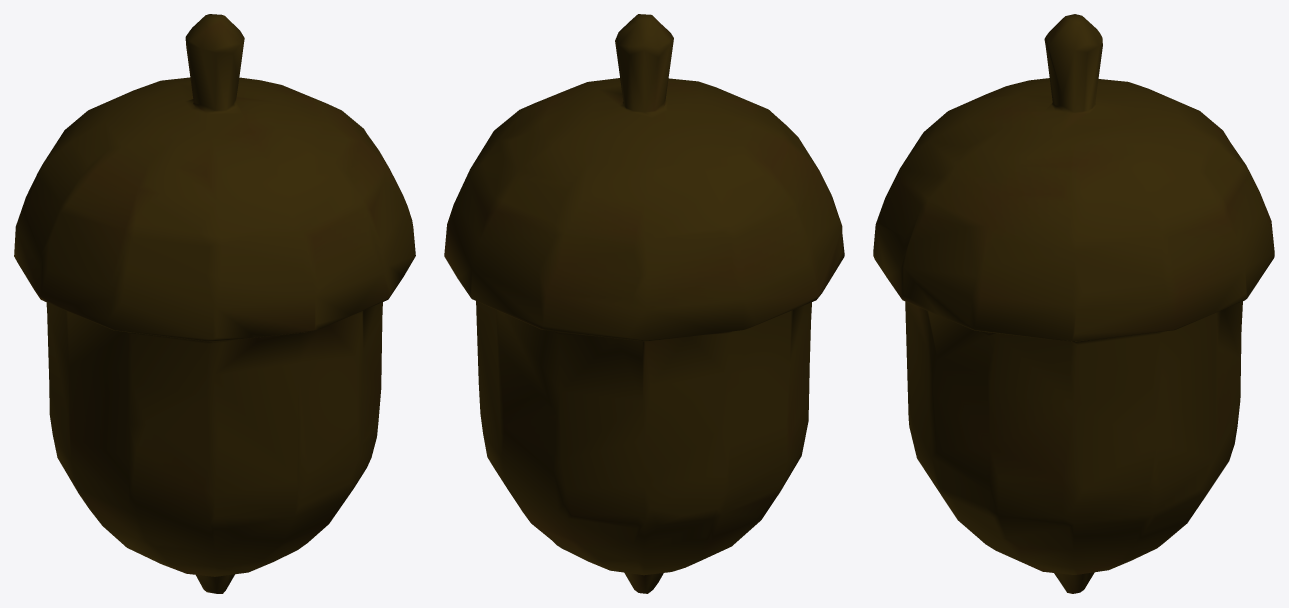
File: gen3d-acorn-lod1.glb
3 views of the same model, side by side, from view 1: azimuth 30°, elevation 25°; view 2: azimuth 150°, elevation 25°; view 3: azimuth 270°, elevation 25° (orthographic).
Parts seen in each view (by area): view 1: part_0; view 2: part_0; view 3: part_0.
Part boxes in pixels (<box>): part_0: <box>14,14,415,593</box>; part_0: <box>444,14,844,593</box>; part_0: <box>873,14,1274,593</box>.
Size of the model in its own units: 0.6336 by 0.9992 by 0.6339.
